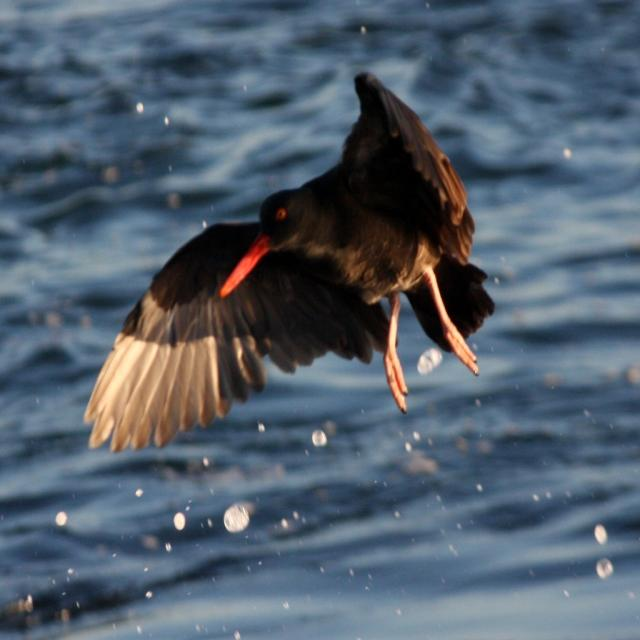bird: (73, 60, 502, 459)
